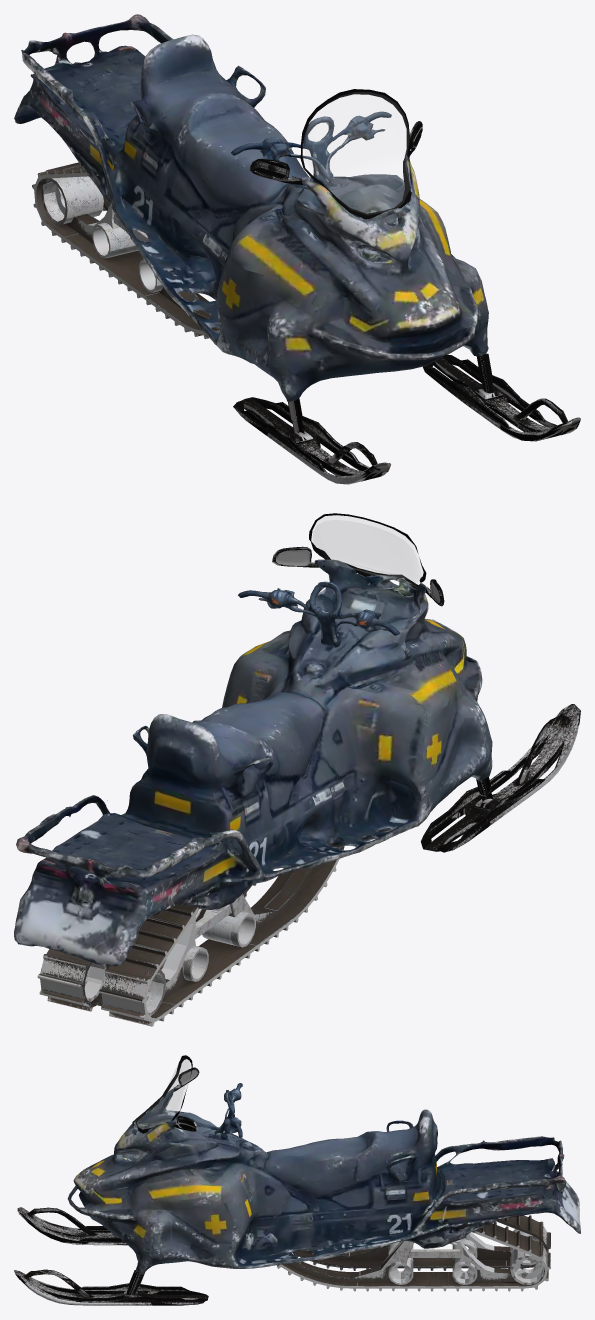
The model's file is ski_patrol1.glb.
The picture shows the model from 3 angles, top to bottom: view 1: azimuth 30°, elevation 25°; view 2: azimuth 150°, elevation 25°; view 3: azimuth 270°, elevation 25°; orthographic projection. The views are drawn at different scales.
Visible parts, largest first — view 1: Body_SnowmobileBODY_0, Windshield_Glass_0, Tracks_TRACKS_0, SteerL_steer_0, SteerR_steer_0, Handlebars_Handlebars_0, Windshield_Plastic_0, Mirrors_base_material_0; view 2: Body_SnowmobileBODY_0, Tracks_TRACKS_0, SteerR_steer_0, Windshield_Glass_0, Handlebars_Handlebars_0, Windshield_Plastic_0; view 3: Body_SnowmobileBODY_0, Tracks_TRACKS_0, SteerL_steer_0, SteerR_steer_0, Windshield_Glass_0, Handlebars_Handlebars_0, Windshield_Plastic_0, Mirrors_base_material_0.
Part boxes in pixels (box(x1,y1,x2,y2)): Body_SnowmobileBODY_0: box(14, 14, 488, 401); Windshield_Glass_0: box(305, 94, 406, 213); Tracks_TRACKS_0: box(32, 162, 219, 338); SteerL_steer_0: box(423, 353, 580, 441); SteerR_steer_0: box(233, 397, 390, 484); Handlebars_Handlebars_0: box(231, 111, 391, 185); Windshield_Plastic_0: box(300, 89, 411, 219); Mirrors_base_material_0: box(250, 121, 422, 184); Body_SnowmobileBODY_0: box(14, 559, 492, 966); Tracks_TRACKS_0: box(37, 844, 344, 1026); SteerR_steer_0: box(420, 704, 580, 852); Windshield_Glass_0: box(312, 520, 422, 585); Handlebars_Handlebars_0: box(238, 581, 399, 647); Windshield_Plastic_0: box(309, 513, 426, 588); Body_SnowmobileBODY_0: box(67, 1088, 580, 1274); Tracks_TRACKS_0: box(277, 1215, 550, 1291); SteerL_steer_0: box(14, 1269, 208, 1305); SteerR_steer_0: box(17, 1207, 127, 1245); Windshield_Glass_0: box(137, 1059, 189, 1128); Handlebars_Handlebars_0: box(214, 1083, 242, 1139); Windshield_Plastic_0: box(132, 1055, 192, 1133); Mirrors_base_material_0: box(173, 1067, 199, 1131).
Size of the model in its own units: 1.07 by 1.43 by 3.48.
8 materials, 5 textured.
